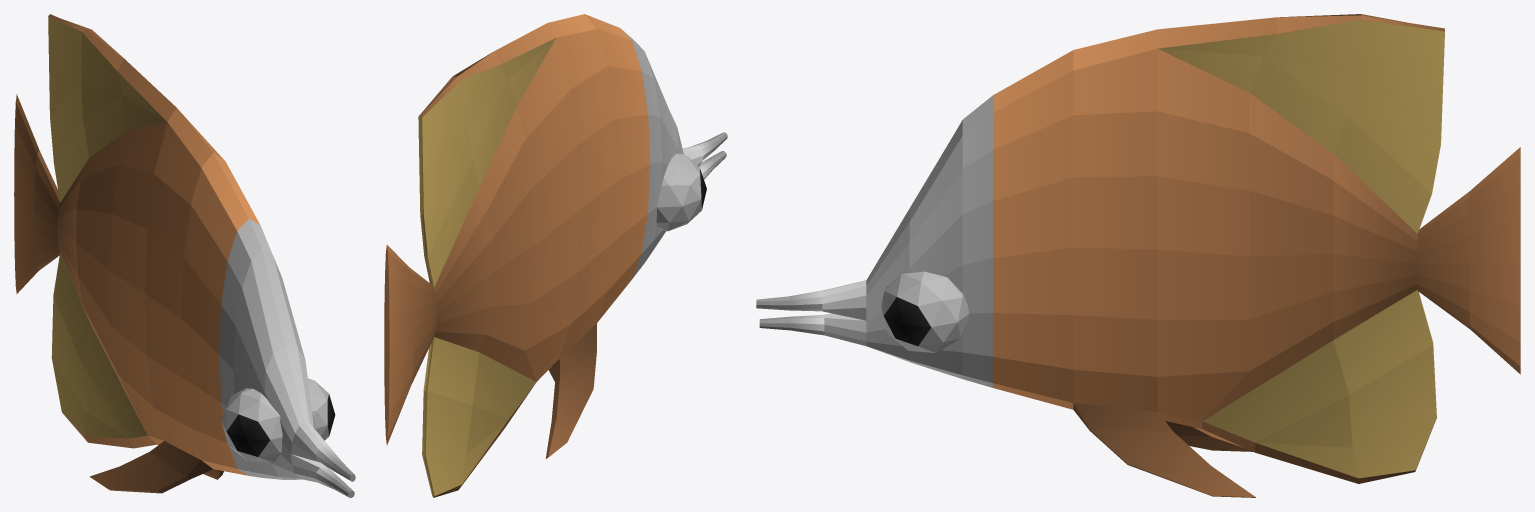
The model's file is butterfly_fish.glb.
3 views of the same model, side by side, from view 1: azimuth 30°, elevation 25°; view 2: azimuth 150°, elevation 25°; view 3: azimuth 270°, elevation 25° (orthographic). The views are drawn at different scales.
Parts seen in each view (by area): view 1: butterfly_fish, eye.shaded.031, eye.shaded.032; view 2: butterfly_fish, eye.shaded.031; view 3: butterfly_fish, eye.shaded.032.
Boxes of the visible parts, x1,y1,x2,y2 form: butterfly_fish: (14,14,355,497); eye.shaded.031: (221,388,282,462); eye.shaded.032: (308,378,335,440); butterfly_fish: (384,14,727,497); eye.shaded.031: (656,153,706,231); butterfly_fish: (756,14,1520,497); eye.shaded.032: (881,271,969,352).
Size of the model in its own units: 0.6424 by 2.46 by 3.63.
Materials: 3 (3 with a texture image).
